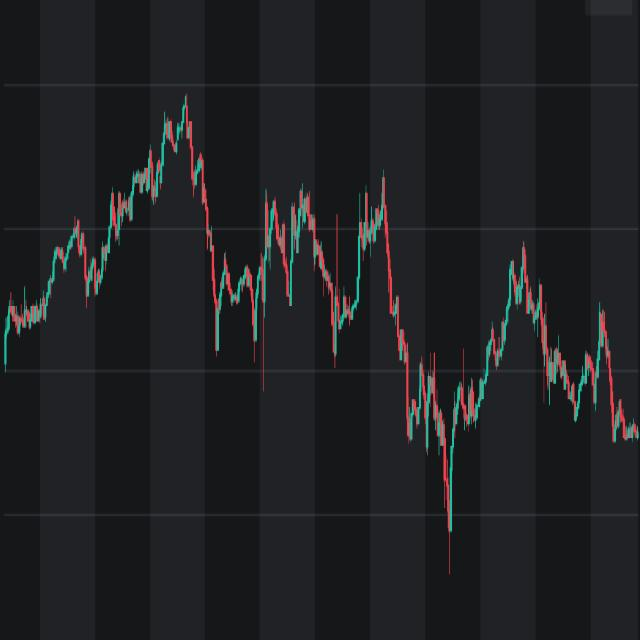Resistance-Emerging: (252, 175, 404, 362)
Support-breakout: (156, 82, 260, 357)
